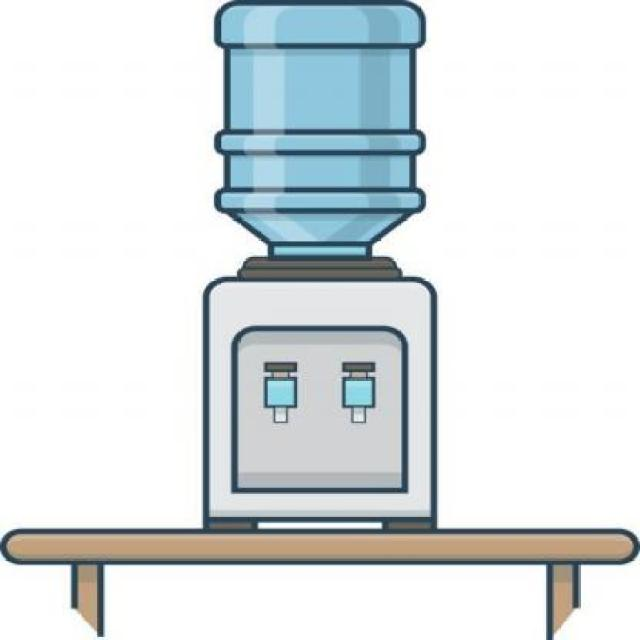cooler: (200, 0, 440, 534)
